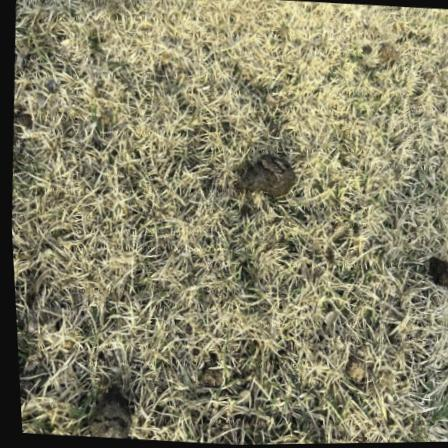dog-poop: (229, 147, 298, 202)
